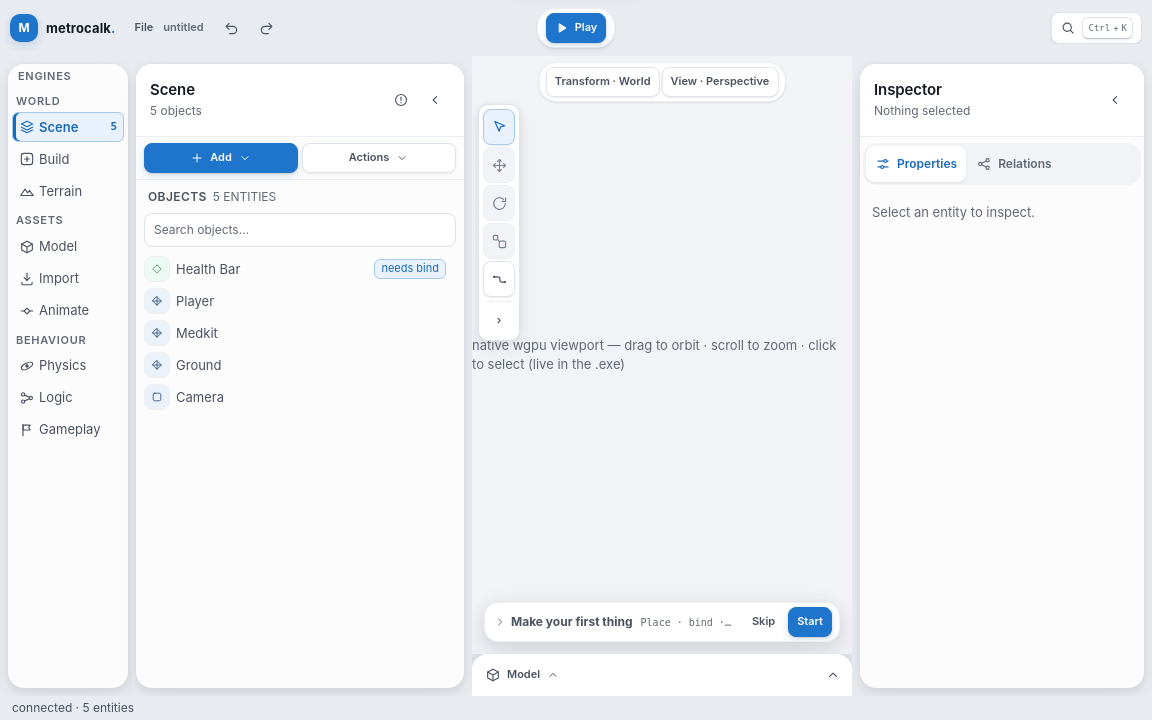
Test: editor app — end-to-end wiring › lets workstation users collapse, preview, and pin each dock without hiding the stage
This screenshot has width=1152, height=720.
Step 1. Click the button named "Collapse Inspector dock" → {"x": 1115, "y": 100}, box 1100,85 -> 1130,115
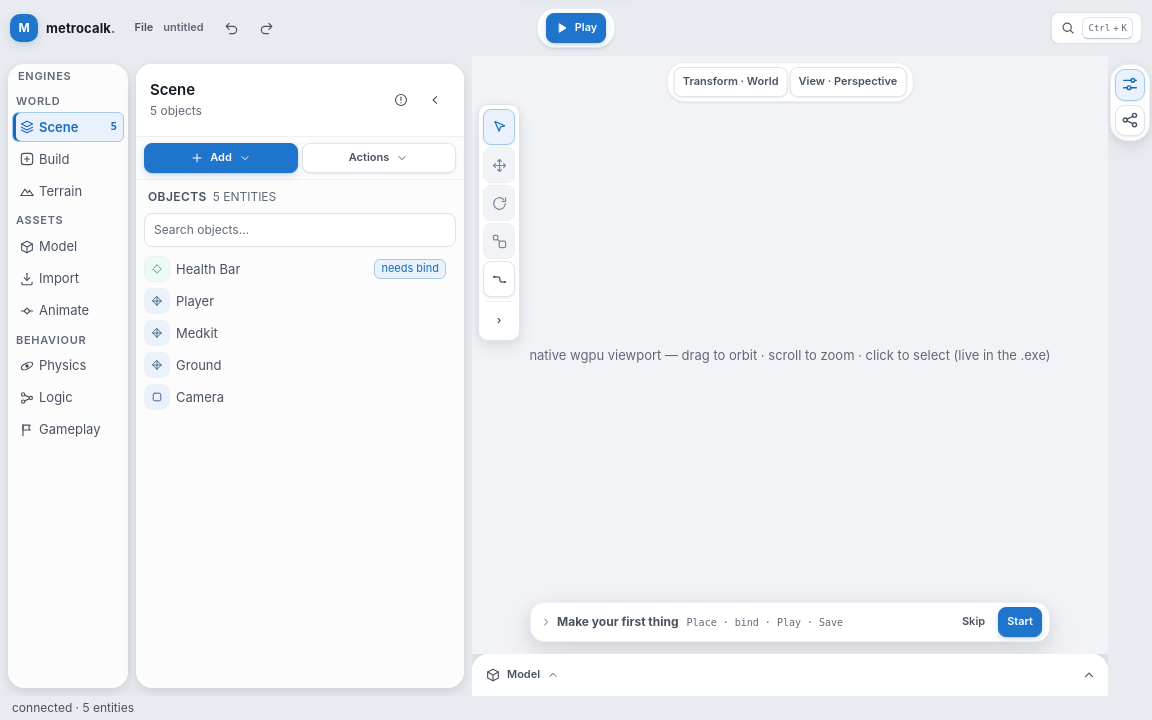
Expected: the element with test id "viewport" is shown, 472,56 -> 1108,654
Expected: the element with test id "rail-right" is shown, 1110,64 -> 1150,141
Step 2. Click the button with test id "rail-right-properties" → {"x": 1130, "y": 85}, box 1115,69 -> 1145,101
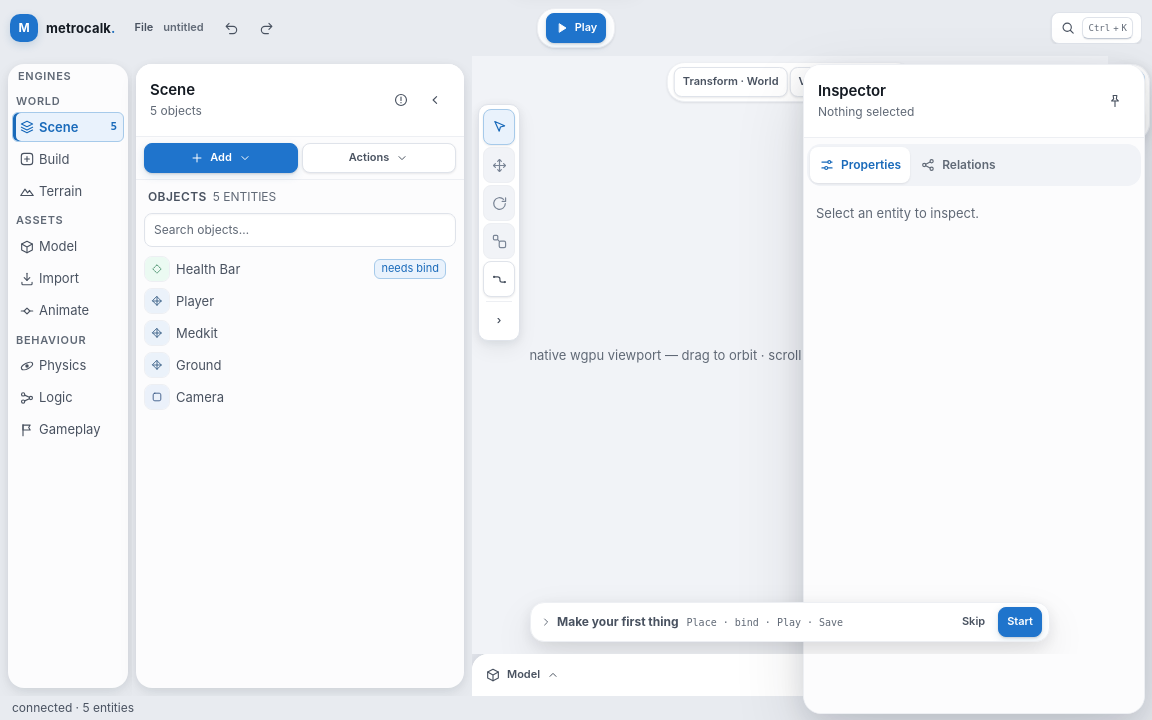
Expected: the element with test id "dock-flyout-right" is shown, 803,64 -> 1145,714
Step 3. Click the button named "Pin Inspector dock" → {"x": 1115, "y": 101}, box 1100,86 -> 1130,116
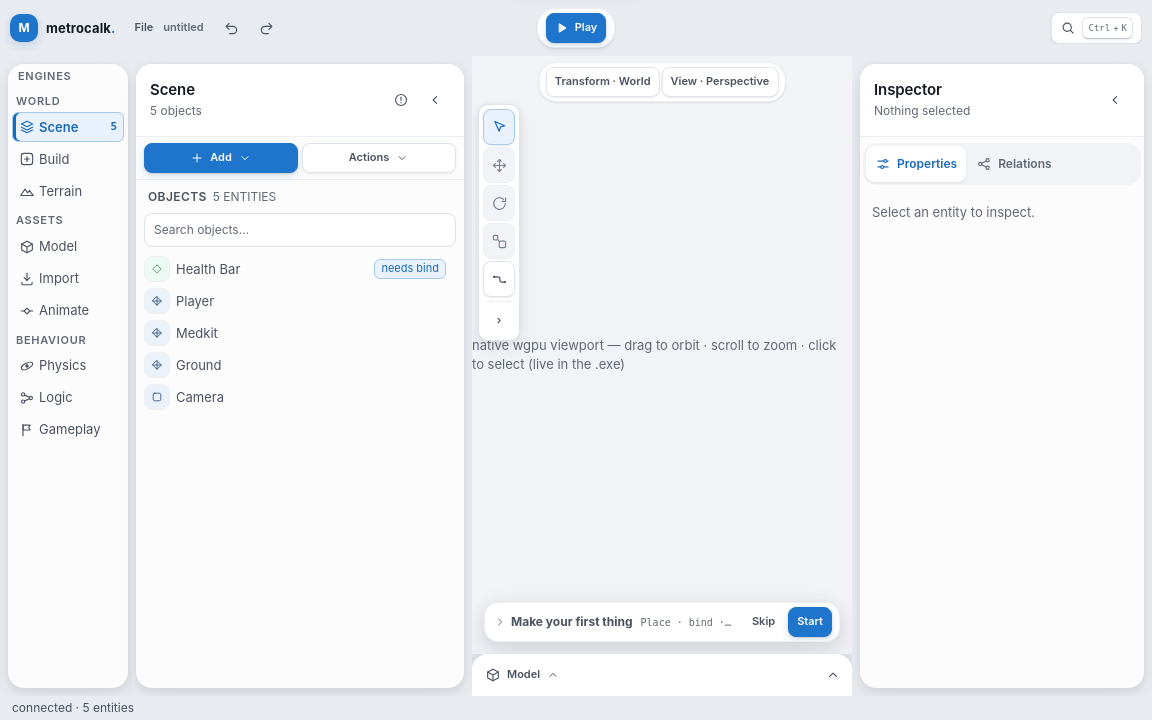
Expected: the element with test id "rail-right" is gone
